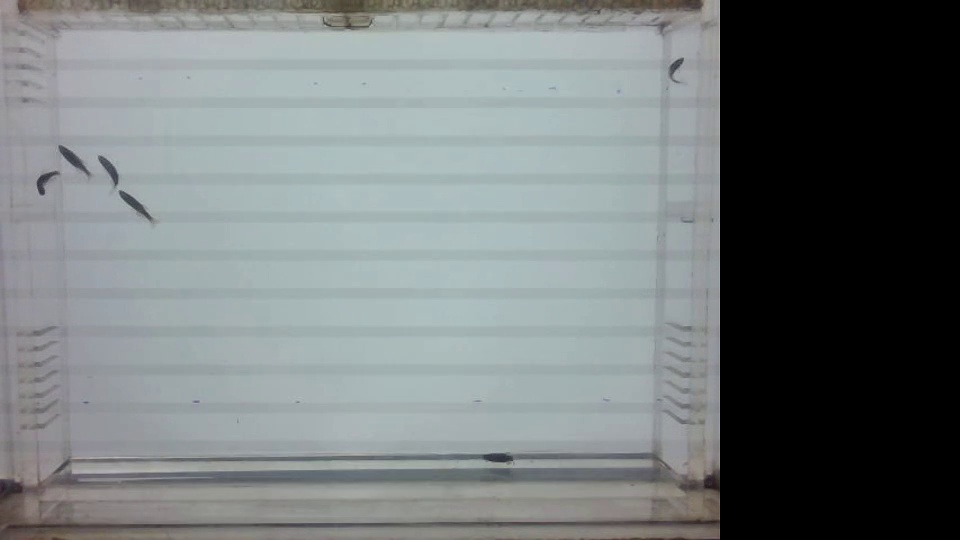fish: (116, 192, 160, 232), (54, 138, 92, 184), (476, 445, 521, 468), (96, 150, 120, 193), (659, 52, 686, 87), (28, 169, 60, 198)
